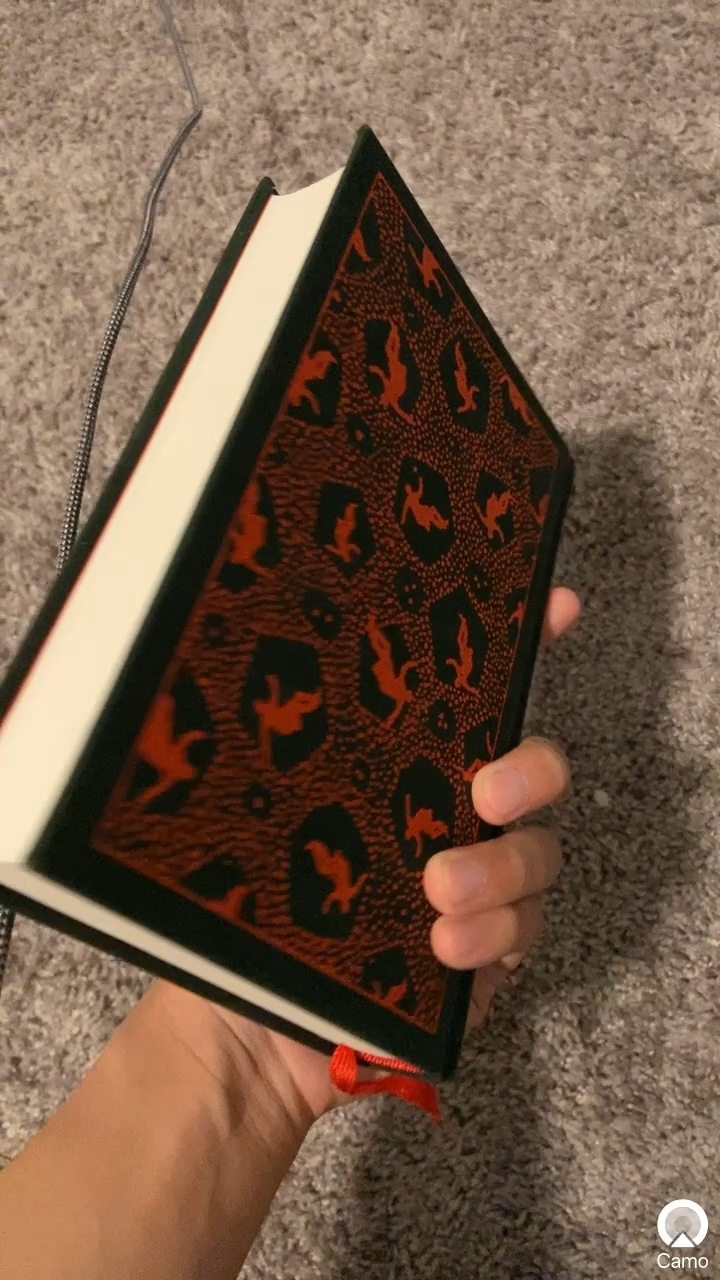Book: (1, 114, 606, 1125)
